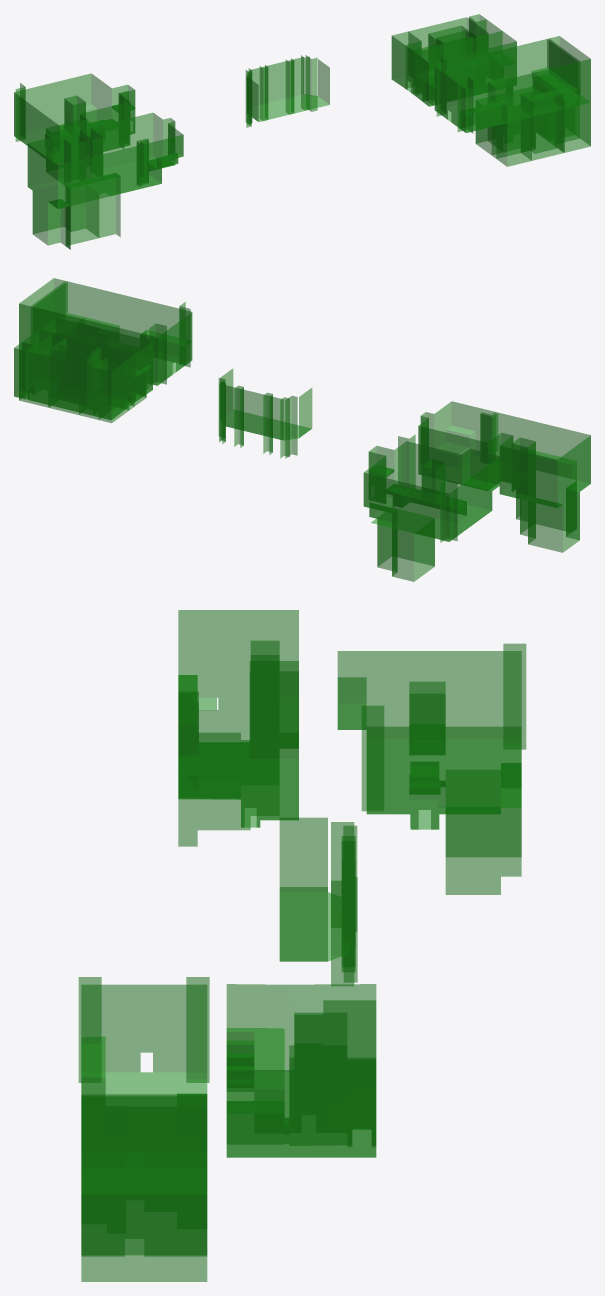
Rendered from camera_col.obj.
3 views of the same model, one above another, from view 1: azimuth 30°, elevation 25°; view 2: azimuth 150°, elevation 25°; view 3: azimuth 270°, elevation 25° (orthographic). The views are drawn at different scales.
Size of the model in its own units: 243 by 43.24 by 92.5.
